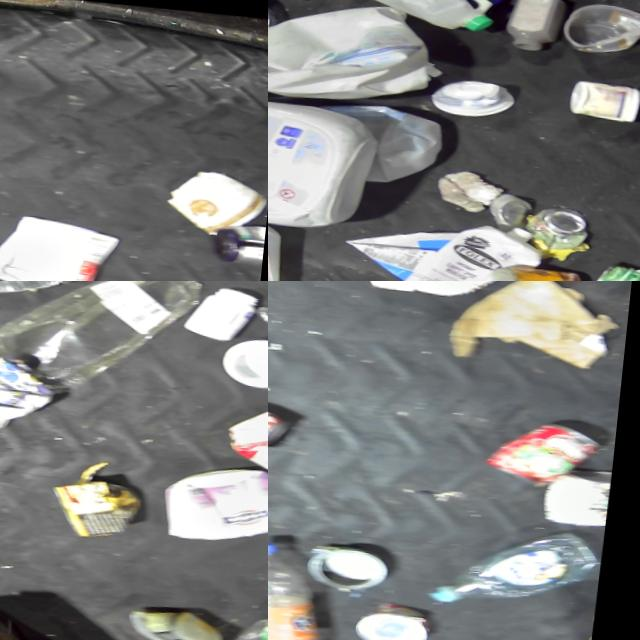can: (489, 408, 610, 481), (57, 470, 153, 536), (548, 455, 619, 516), (314, 536, 400, 584), (430, 71, 520, 116), (363, 591, 443, 640), (528, 198, 597, 253), (568, 72, 640, 115), (485, 256, 591, 281), (490, 185, 539, 227), (268, 383, 299, 447)
milk_jug: (268, 0, 450, 107), (317, 0, 501, 28)
non_white_jug: (268, 94, 382, 230), (0, 347, 64, 438), (230, 397, 268, 475)
plastic_bottle: (435, 512, 613, 607), (268, 533, 336, 640), (194, 589, 268, 640)
